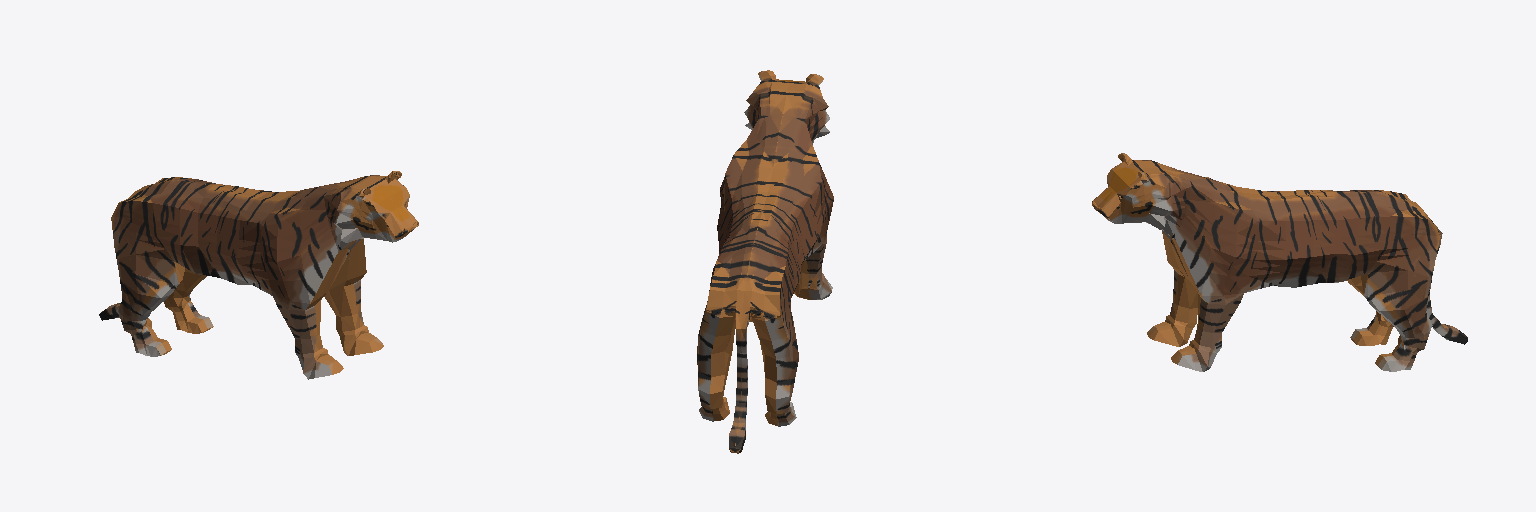
3 views of the same model, side by side, from view 1: azimuth 30°, elevation 25°; view 2: azimuth 150°, elevation 25°; view 3: azimuth 270°, elevation 25° (orthographic).
Visible parts, largest first — view 1: Tiger; view 2: Tiger; view 3: Tiger.
Part boxes in pixels (left/top/right/bottom): Tiger: left=99, top=171, right=418, bottom=379; Tiger: left=697, top=70, right=833, bottom=453; Tiger: left=1092, top=153, right=1467, bottom=371.
Size of the model in its own units: 1.1 by 1.53 by 2.23.
Materials: 1 (1 with a texture image).